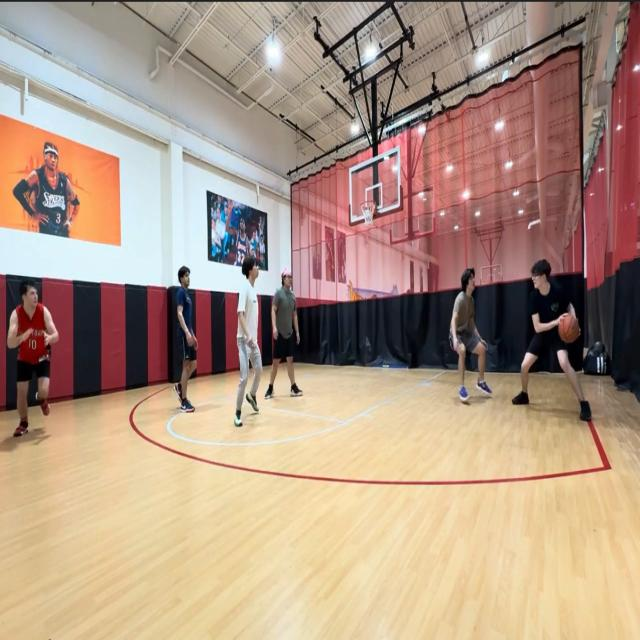Basketball: (559, 315, 579, 342)
Basketball Rim: (360, 200, 376, 226)
Player: (512, 257, 593, 423), (6, 277, 58, 436), (448, 266, 492, 402), (233, 255, 264, 430), (264, 267, 304, 400), (173, 264, 200, 418)
